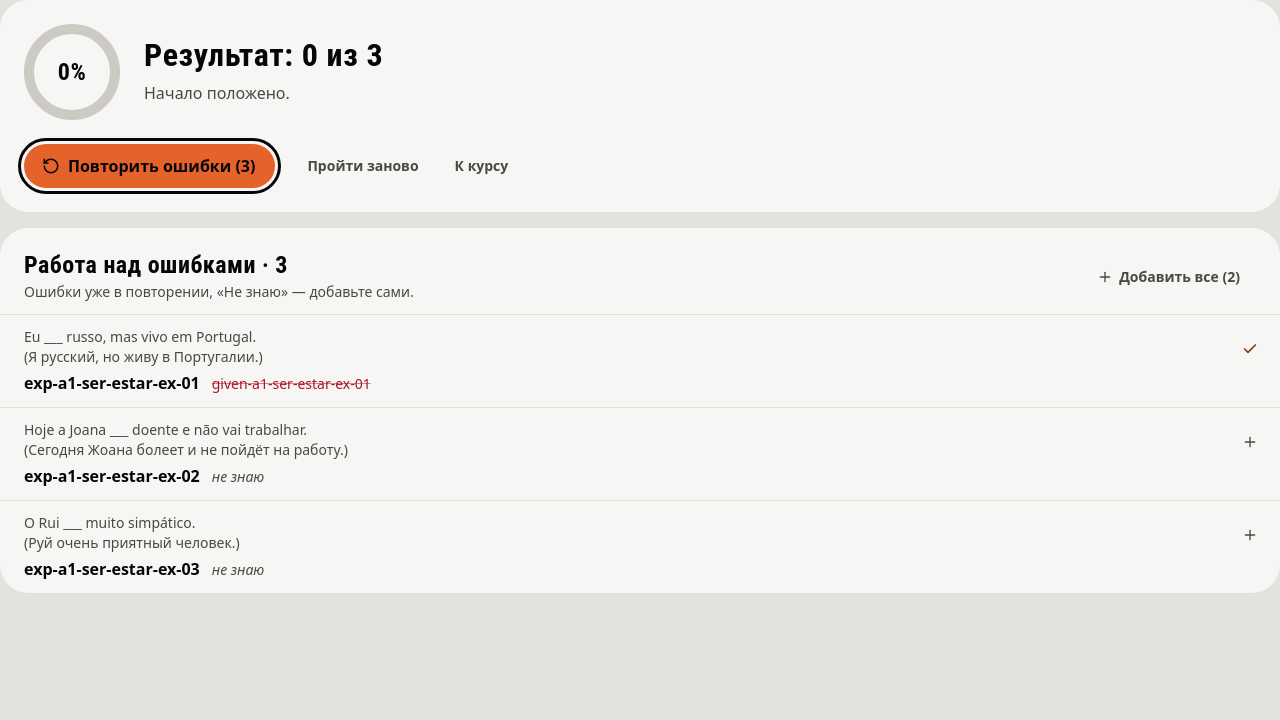
Test: ResultScreen: mistakes («Работа над ошибками») › mistakes already in review are marked; missing ones can be added one by one or all at once
Expected: the text "Ошибки уже в повторении, «Не знаю» — добавьте сами." is shown, left=24, top=282, right=414, bottom=302
Click the button named "Добавить «exp-a1-ser-estar-ex-02» в повторение" at (1250, 442), box left=1228, top=420, right=1272, bottom=464
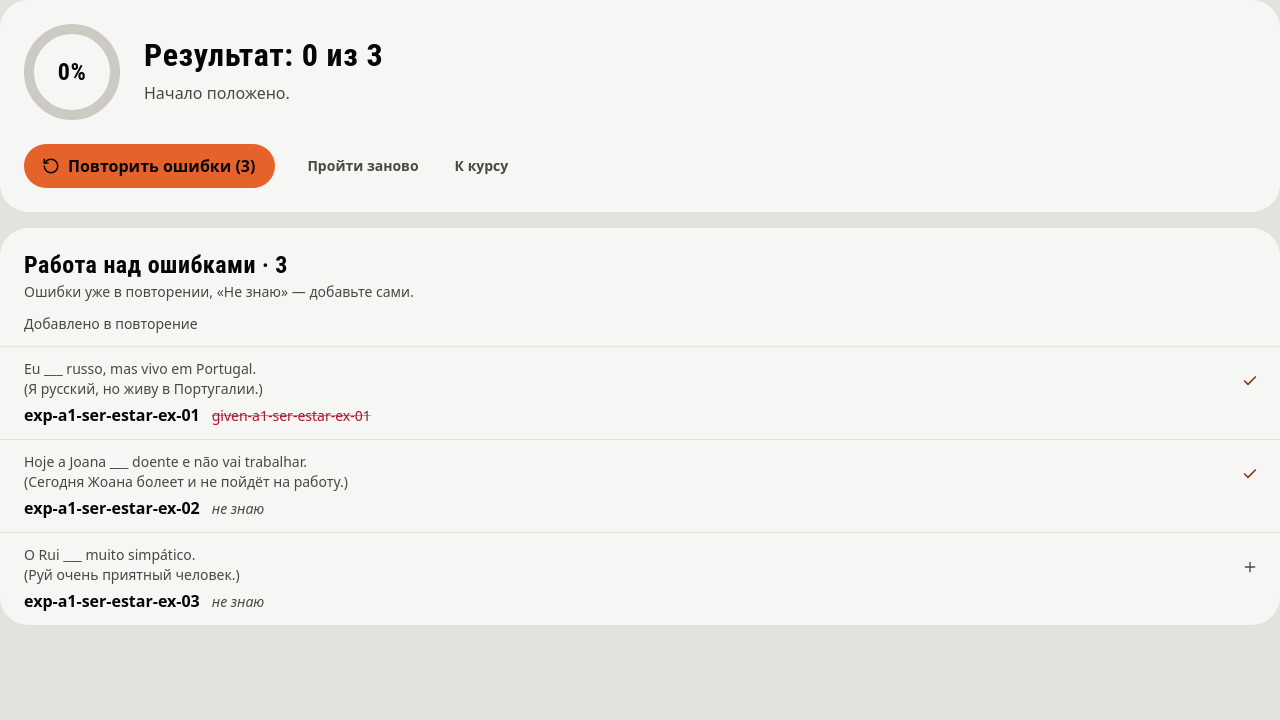
Now the text "Добавлено в повторение" is shown, box left=24, top=314, right=198, bottom=333
Now the button "Добавить все" is gone
